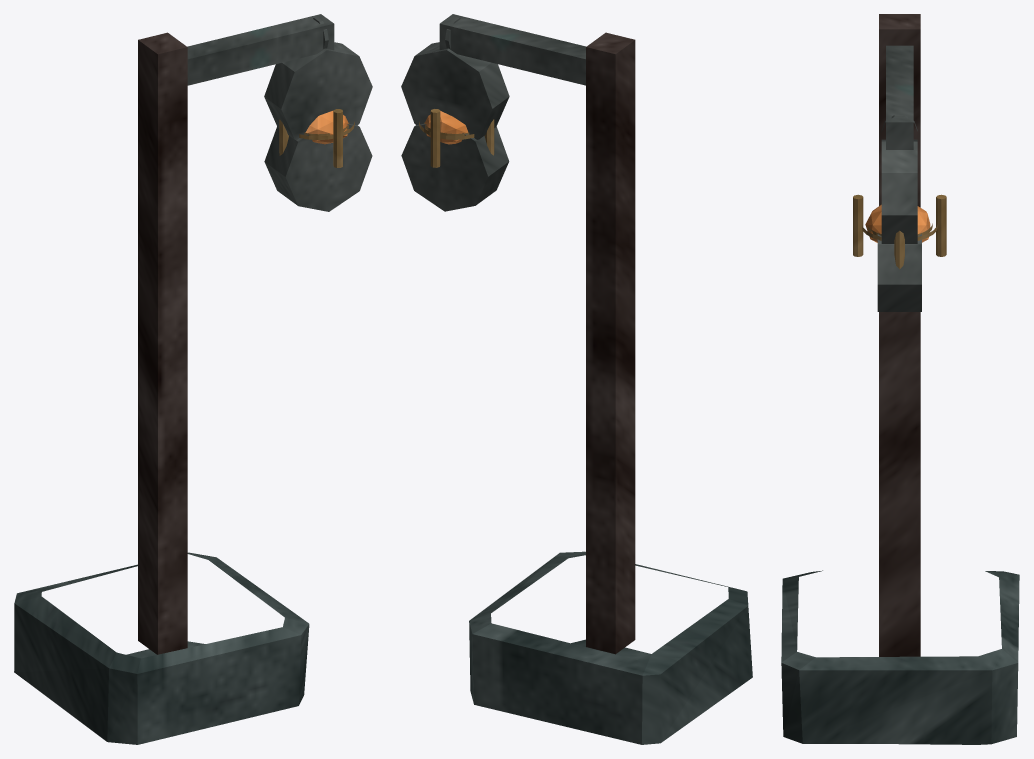
File: 0713_lantern_post_13.glb
The picture shows the model from 3 angles, left to right: view 1: azimuth 30°, elevation 25°; view 2: azimuth 150°, elevation 25°; view 3: azimuth 270°, elevation 25°; orthographic projection. The views are drawn at different scales.
Parts seen in each view (by area): view 1: wood_dark, stone_dark, iron, brass, amber; view 2: wood_dark, stone_dark, iron, brass, amber; view 3: stone_dark, wood_dark, iron, brass, amber.
Boxes of the visible parts, x1,y1,x2,y2 form: wood_dark: [138, 32, 187, 654]; stone_dark: [14, 552, 309, 744]; iron: [187, 14, 372, 211]; brass: [279, 109, 354, 167]; amber: [305, 111, 348, 144]; wood_dark: [586, 32, 635, 654]; stone_dark: [469, 551, 752, 744]; iron: [401, 14, 585, 211]; brass: [419, 109, 494, 167]; amber: [425, 111, 468, 144]; stone_dark: [781, 570, 1019, 744]; wood_dark: [879, 14, 920, 656]; iron: [877, 45, 921, 311]; brass: [853, 194, 946, 269]; amber: [865, 204, 930, 242].
Size of the model in its own units: 1.31 by 2.71 by 0.858.
Materials: 5 (5 with a texture image).
